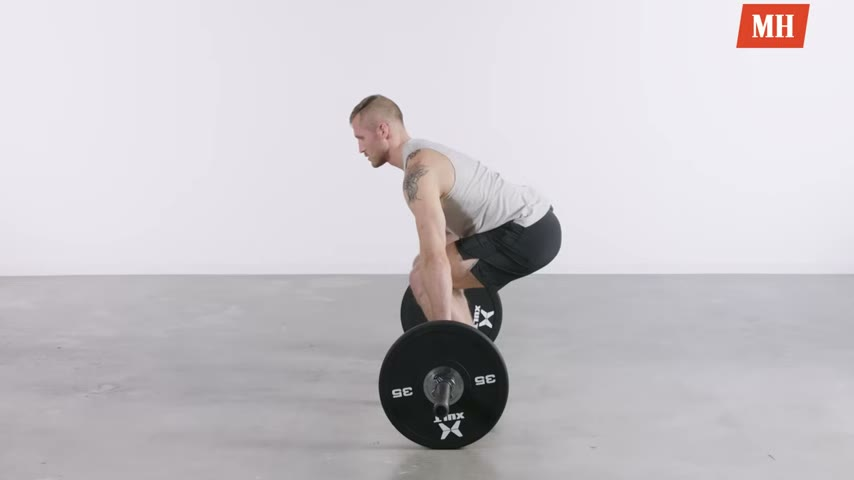barbell_plate_side: (375, 315, 416, 454), (475, 312, 511, 454)
